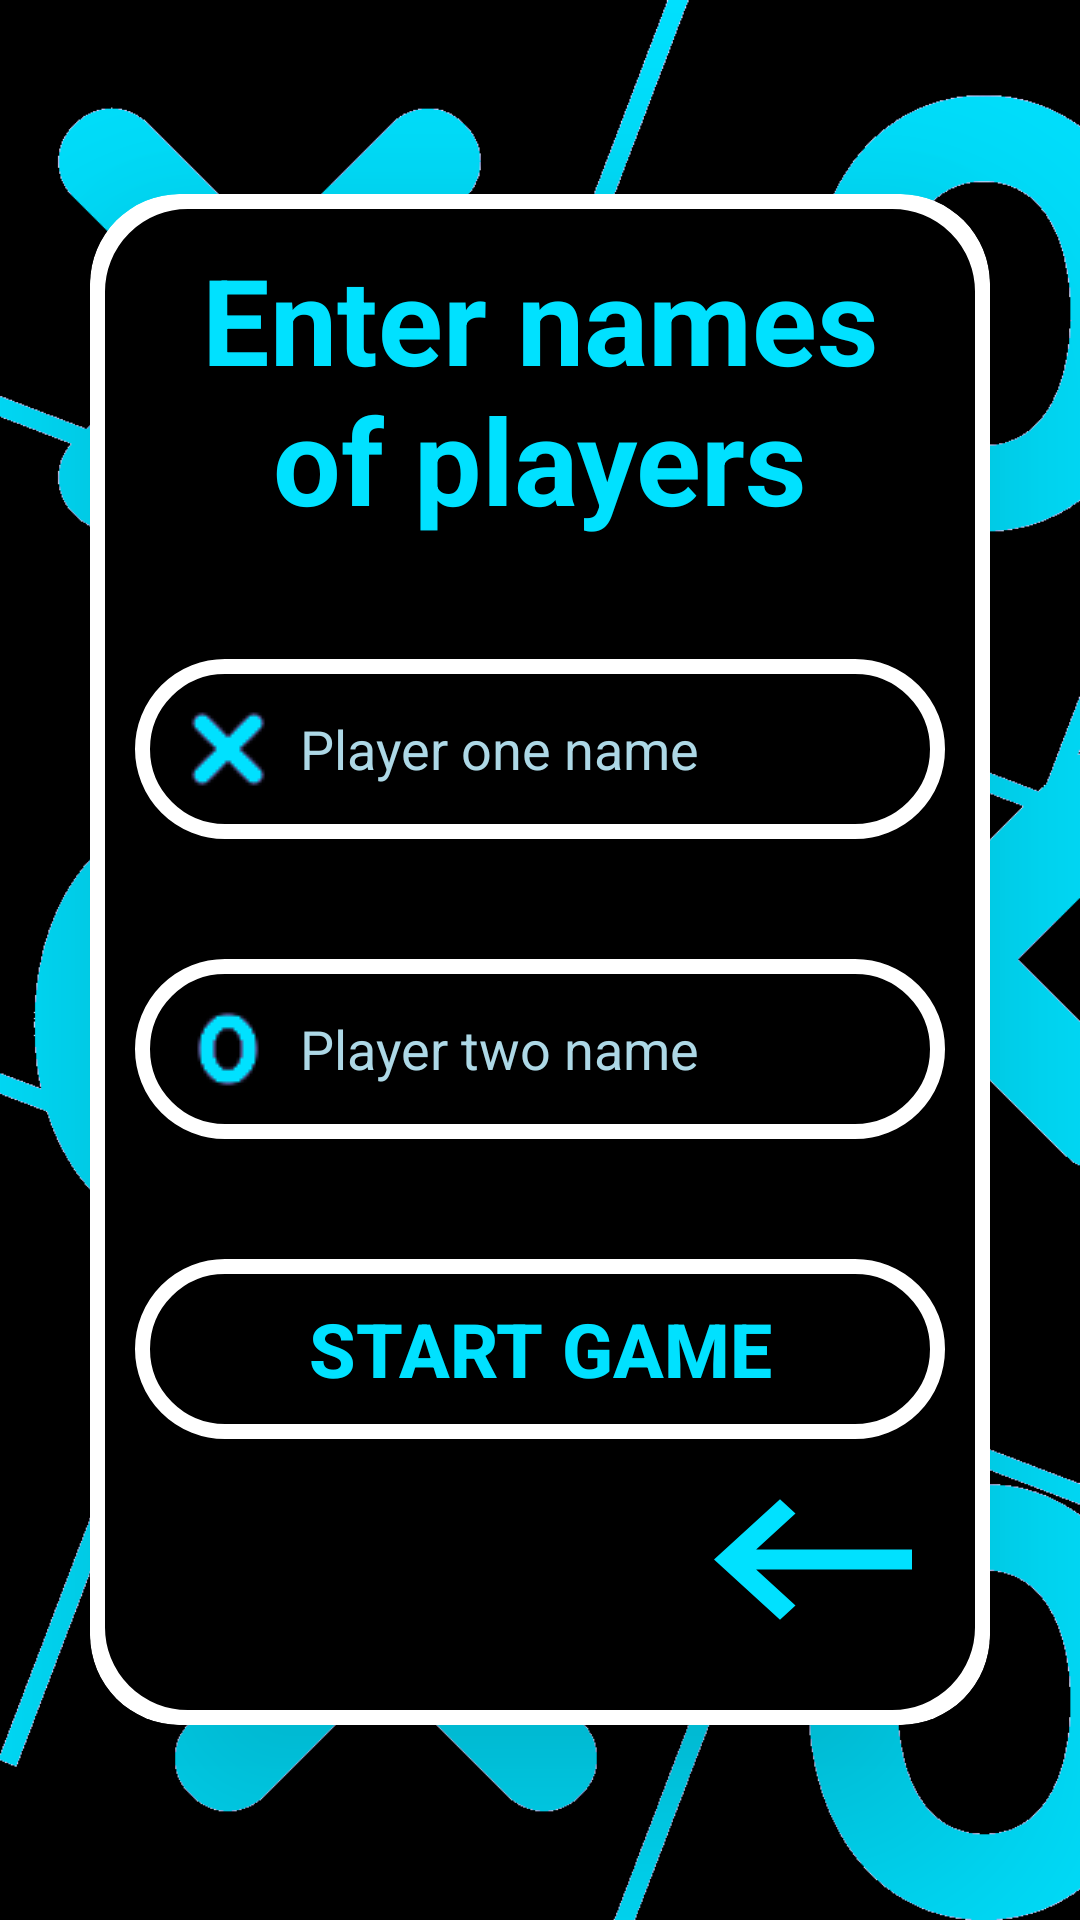

Icons on this 1080×1920 Android screen, each with its box as (x1, y1, x2, y2):
keyboard backspace: (714, 1499, 912, 1620)
